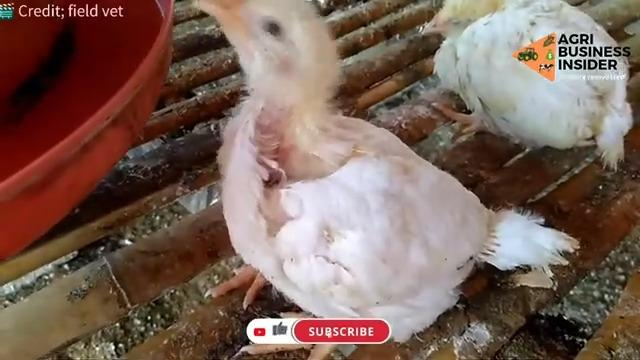AbNormal: (202, 2, 379, 296)
